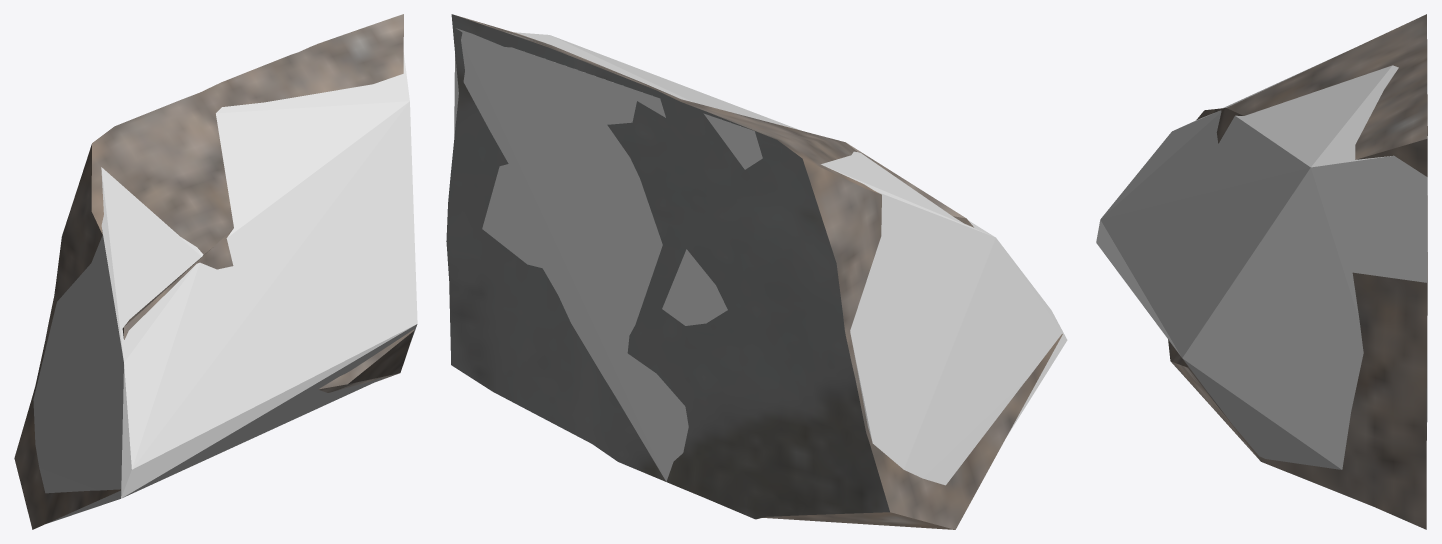
File: SM_Rock_06.fbx
3 renders of one model, left to right at view 1: azimuth 30°, elevation 25°; view 2: azimuth 150°, elevation 25°; view 3: azimuth 270°, elevation 25°, orthographic. The views are drawn at different scales.
Parts seen in each view (by area): view 1: SM_Rock_06_ConvexHulls, SM_Rock_06_LOD0; view 2: SM_Rock_06_LOD0, SM_Rock_06_ConvexHulls; view 3: SM_Rock_06_ConvexHulls, SM_Rock_06_LOD0.
Part boxes in pixels (x1,y1,x2,y2): SM_Rock_06_ConvexHulls: (33, 52, 417, 523); SM_Rock_06_LOD0: (14, 14, 414, 529); SM_Rock_06_LOD0: (446, 14, 1062, 529); SM_Rock_06_ConvexHulls: (454, 28, 1067, 485); SM_Rock_06_ConvexHulls: (1096, 49, 1427, 469); SM_Rock_06_LOD0: (1168, 14, 1427, 529).
Bounding box in the file's own units: 30.64 × 16.77 × 26.99.
